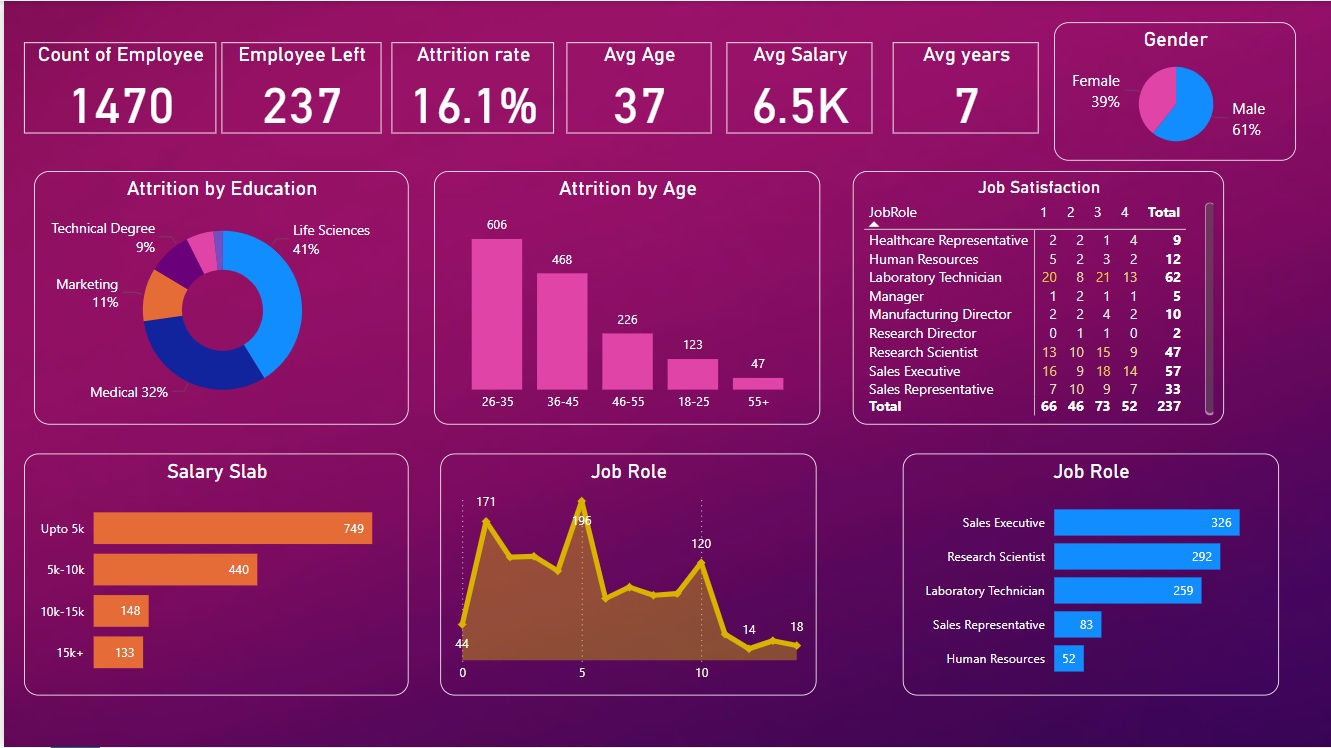

What the dashboard file says about the page in this screenshot:
{"tool":"powerbi","page":{"name":"Page 1","canvas":[1280,720],"ordinal":0},"visuals":[{"type":"card","title":"Count of Employee","fields":{"Values":["CountNonNull(HR_Analytics.EmpID)"]},"box":[18.7,40.3,185.8,87.8],"z":0},{"type":"card","title":"Employee Left","fields":{"Values":["Sum(HR_Analytics.Attrition Count)"]},"box":[210.2,40.3,154.1,87.8],"z":1000},{"type":"card","title":"Attrition rate","fields":{"Values":["HR_Analytics.attrition_rate"]},"box":[374.4,40.3,157,87.8],"z":2000},{"type":"card","title":"Avg Age ","fields":{"Values":["Avg(HR_Analytics.Age)"]},"box":[542.9,40.3,139.7,87.8],"z":3000},{"type":"card","title":"Avg Salary ","fields":{"Values":["Avg(HR_Analytics.MonthlyIncome)"]},"box":[697,40.3,141.1,87.8],"z":4000},{"type":"card","title":"Avg years ","fields":{"Values":["Avg(HR_Analytics.YearsAtCompany)"]},"box":[858.2,40.3,141.1,87.8],"z":5000},{"type":"donutChart","title":"Attrition by Education","fields":{"Category":["HR_Analytics.EducationField"],"Y":["CountNonNull(HR_Analytics.Attrition)"]},"box":[28.8,163.7,361.4,244.8],"z":6000},{"type":"columnChart","title":"Attrition by Age","fields":{"Category":["HR_Analytics.AgeGroup"],"Y":["CountNonNull(HR_Analytics.Attrition)"]},"box":[414.7,163.7,373,244.8],"z":7000},{"type":"pivotTable","title":"Job Satisfaction","fields":{"Rows":["HR_Analytics.JobRole"],"Columns":["HR_Analytics.JobSatisfaction"],"Values":["Sum(HR_Analytics.Attrition Count)"]},"box":[819.4,164.2,358.6,244.8],"z":8000},{"type":"barChart","title":"Salary Slab","fields":{"Category":["HR_Analytics.SalarySlab"],"Y":["CountNonNull(HR_Analytics.Attrition)"]},"box":[18.7,436.3,371.5,233.3],"z":9000},{"type":"barChart","title":"Job Role","fields":{"Category":["HR_Analytics.JobRole"],"Y":["CountNonNull(HR_Analytics.Attrition)"]},"box":[866.9,436.3,362.9,233.3],"z":10000},{"type":"areaChart","title":"Job Role","fields":{"Category":["HR_Analytics.YearsAtCompany"],"Y":["CountNonNull(HR_Analytics.Attrition)"]},"box":[420.5,436.3,362.9,233.3],"z":11000},{"type":"pieChart","title":"Gender","fields":{"Category":["HR_Analytics.Gender"],"Y":["CountNonNull(HR_Analytics.Attrition)"]},"box":[1013.8,20.2,233.3,133.9],"z":12000}]}

Visuals, with their boxes in screenshot pixels (x1, y1, x2, y2), scaled from the page's 1280x720 canvas onto the 1331x748 screenshot:
"Count of Employee" card: crop(19, 42, 213, 133)
"Employee Left" card: crop(219, 42, 379, 133)
"Attrition rate" card: crop(389, 42, 553, 133)
"Avg Age " card: crop(565, 42, 710, 133)
"Avg Salary " card: crop(725, 42, 871, 133)
"Avg years " card: crop(892, 42, 1039, 133)
"Attrition by Education" donutChart: crop(30, 170, 406, 424)
"Attrition by Age" columnChart: crop(431, 170, 819, 424)
"Job Satisfaction" pivotTable: crop(852, 171, 1225, 425)
"Salary Slab" barChart: crop(19, 453, 406, 696)
"Job Role" barChart: crop(901, 453, 1279, 696)
"Job Role" areaChart: crop(437, 453, 815, 696)
"Gender" pieChart: crop(1054, 21, 1297, 160)
